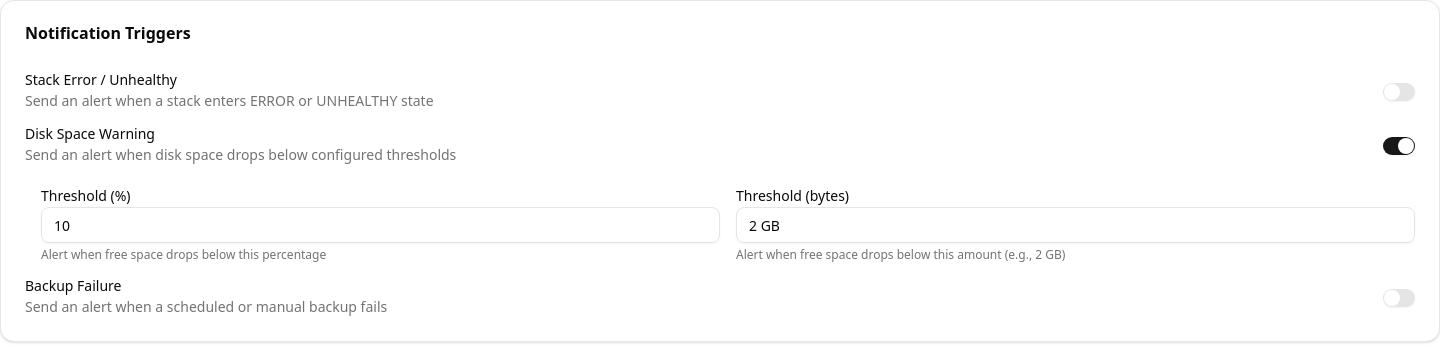
Test: NotificationTriggersCard › clamps an out-of-range percent value instead of leaving the input showing an unsaved value
In the number field labelled "Threshold (%)": (380, 225) [41,207,720,243], type "150"
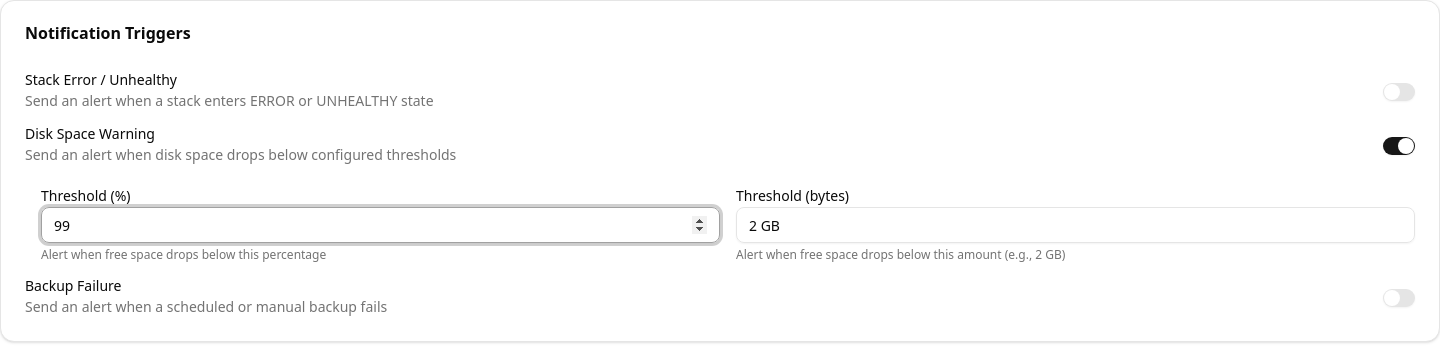
Result: the number field labelled "Threshold (%)" holds "99" at [41,207,720,243]
